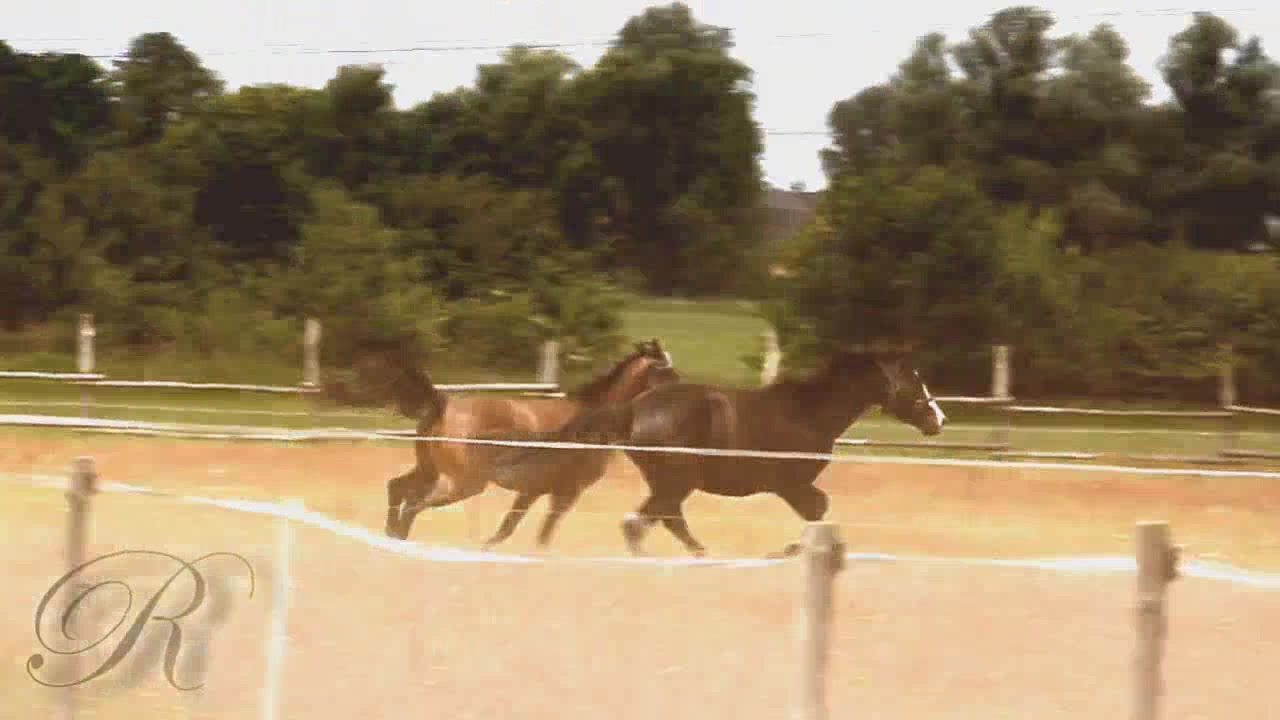horse: (465, 345, 949, 559), (369, 339, 678, 541)
